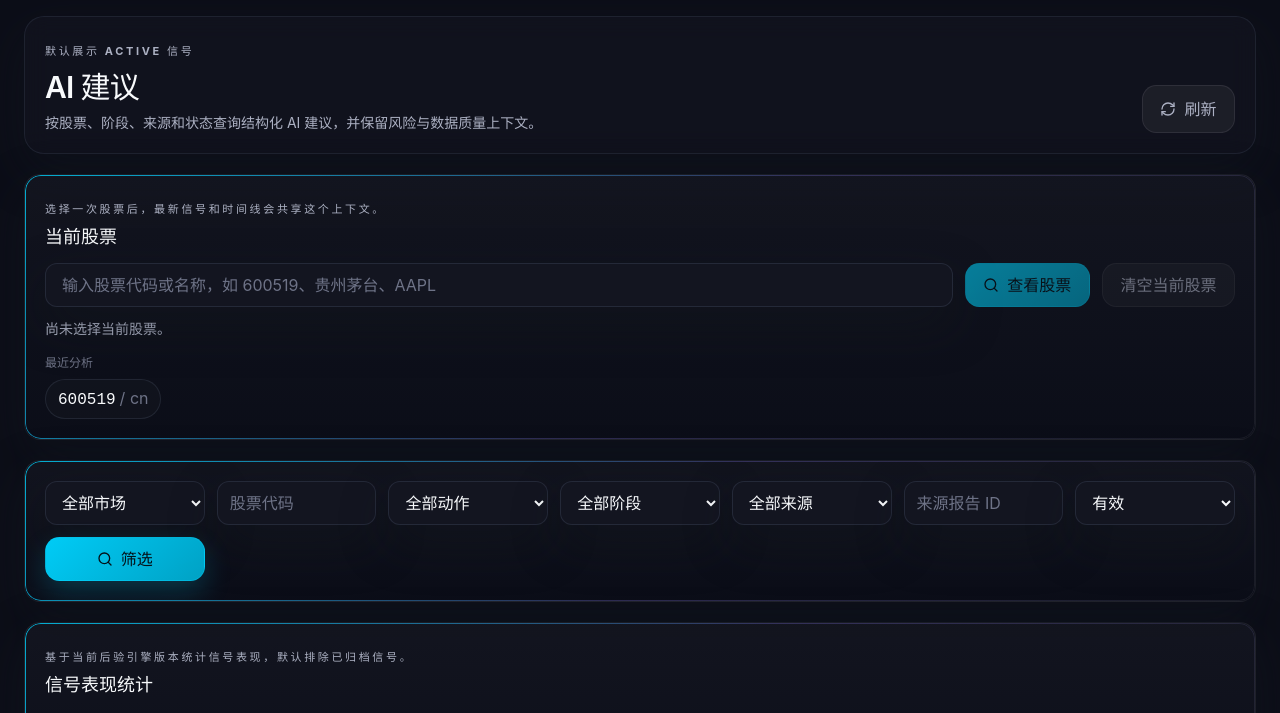
Test: DecisionSignalsPage › renders empty and error states
Click the button "刷新".
click(1188, 109)  # box [1142,85,1235,133]
(page scrolled)
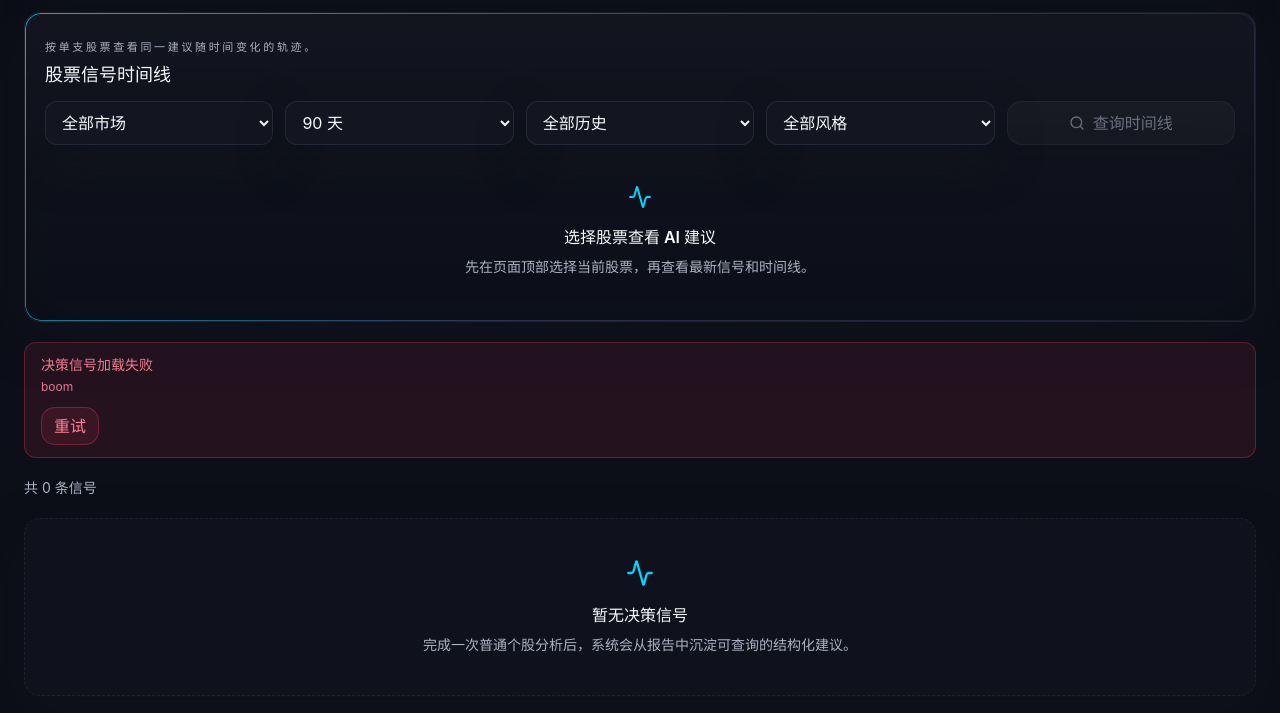
Expected: the message shows "boom", [41,379,73,394]
